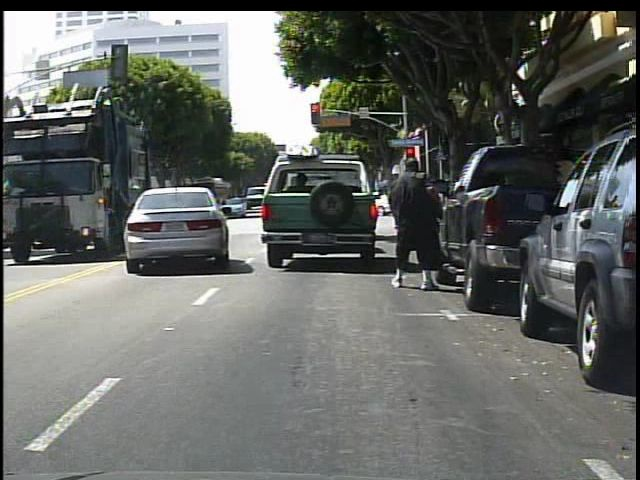person: (386, 158, 444, 294)
